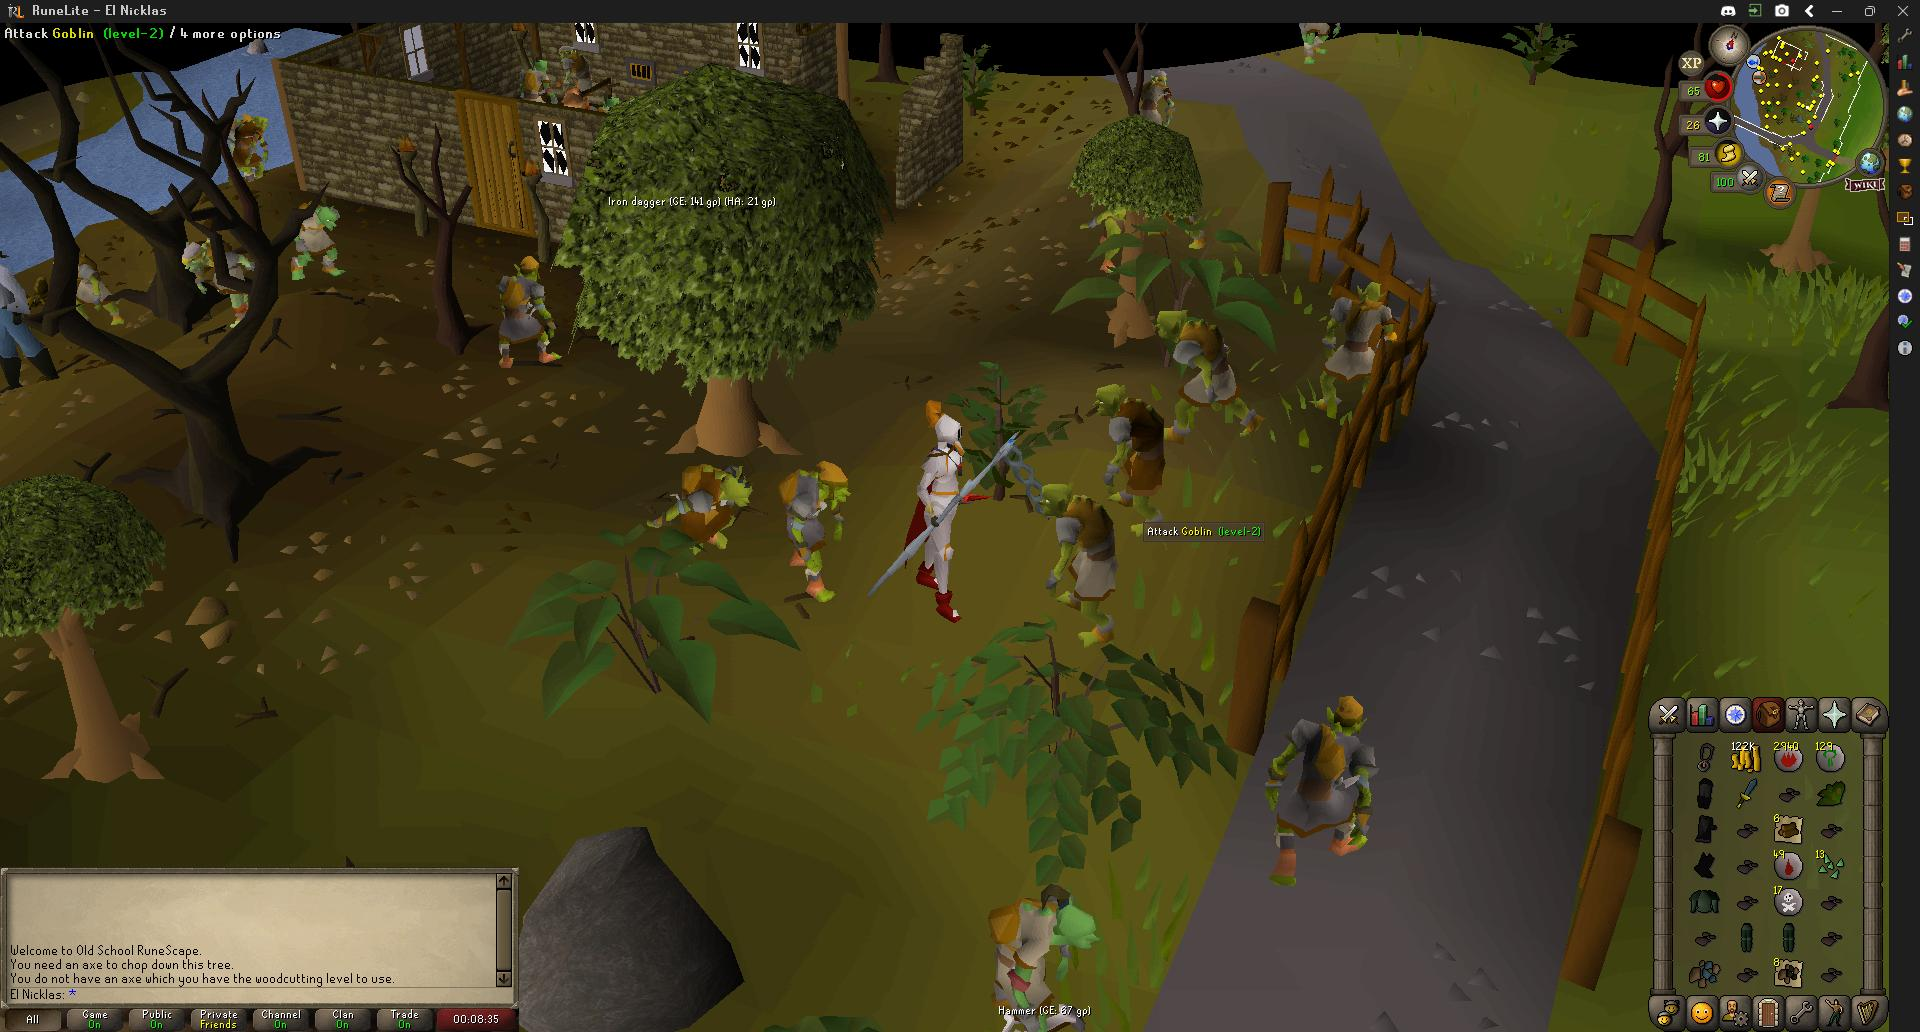Player: (896, 402, 965, 627)
goblin: (1276, 695, 1379, 893), (987, 881, 1096, 1029), (1162, 315, 1263, 442), (1045, 489, 1118, 635), (776, 460, 847, 605), (646, 463, 750, 553), (1094, 388, 1167, 510), (1320, 279, 1397, 388), (496, 252, 560, 369), (183, 238, 253, 329), (1080, 199, 1144, 271), (74, 253, 128, 329), (294, 204, 347, 280), (228, 112, 269, 183), (556, 44, 596, 107), (1139, 70, 1175, 127), (520, 57, 557, 105), (1297, 22, 1335, 66)
